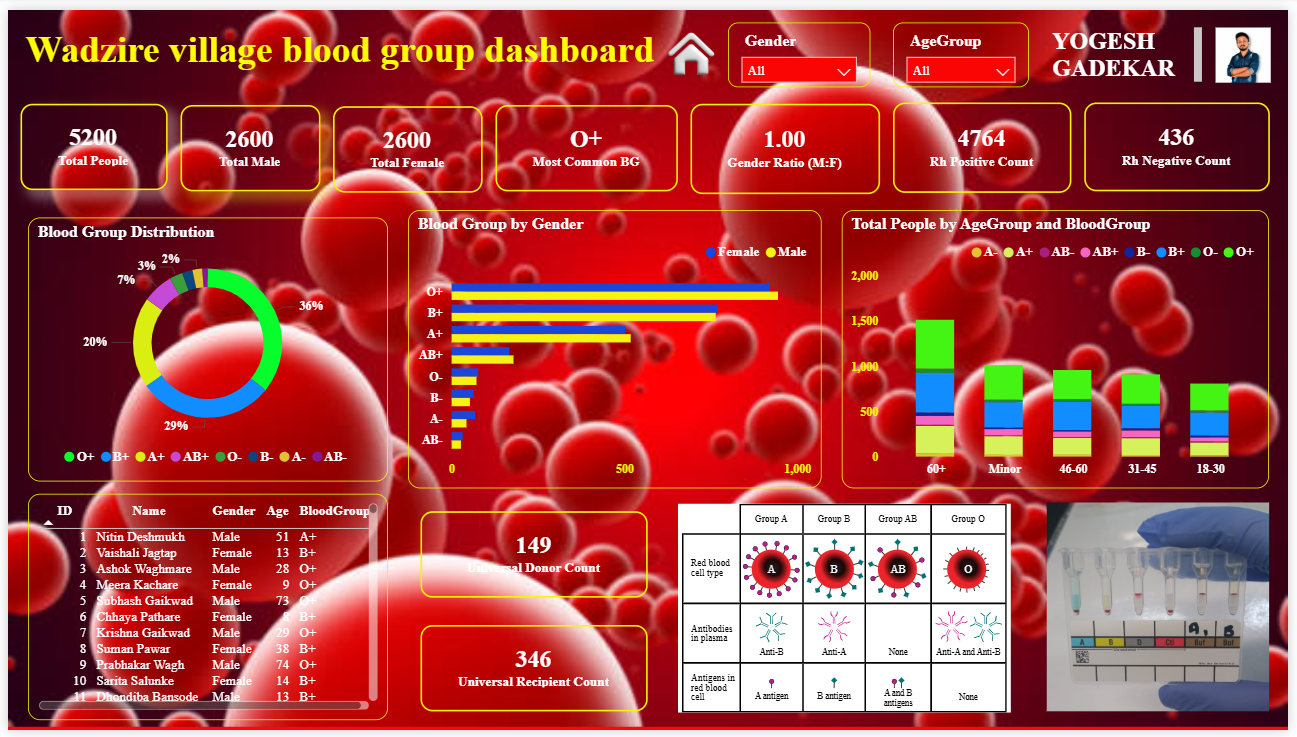

The dashboard page shown, as its layout file describes it:
{"tool":"powerbi","page":{"name":"Page 1","canvas":[1280,720],"ordinal":0},"visuals":[{"type":"textbox","box":[12.5,12.5,643.8,62.5],"z":0},{"type":"cardVisual","fields":{"Data":["BloodGroupData.Total People"]},"box":[12.3,93.3,146.8,86.4],"z":1000},{"type":"cardVisual","fields":{"Data":["BloodGroupData.Total Male"]},"box":[172.9,94.7,140,86.4],"z":2000},{"type":"cardVisual","fields":{"Data":["BloodGroupData.Total Female"]},"box":[325.2,96.1,149.6,86.4],"z":3000},{"type":"cardVisual","fields":{"Data":["BloodGroupData.Most Common BG"]},"box":[487.1,94.7,182.5,86.4],"z":4000},{"type":"cardVisual","fields":{"Data":["BloodGroupData.Rh Positive Count"]},"box":[885.1,91.9,178.4,90.6],"z":5000},{"type":"cardVisual","fields":{"Data":["BloodGroupData.Gender Ratio (M:F)"]},"box":[682,93.3,189.4,90.6],"z":6000},{"type":"cardVisual","fields":{"Data":["BloodGroupData.Rh Negative Count"]},"box":[1075.8,91.9,185.2,89.2],"z":7000},{"type":"donutChart","title":"Blood Group Distribution","fields":{"Category":["BloodGroupData.BloodGroup"],"Y":["BloodGroupData.Total People"]},"box":[20,207.5,360,263.8],"z":8000},{"type":"clusteredBarChart","title":"Blood Group by Gender","fields":{"Category":["BloodGroupData.BloodGroup"],"Series":["BloodGroupData.Gender"],"Y":["BloodGroupData.Total People"]},"box":[400,200,413.8,278.8],"z":9000},{"type":"columnChart","fields":{"Category":["BloodGroupData.AgeGroup"],"Series":["BloodGroupData.BloodGroup"],"Y":["BloodGroupData.Total People"]},"box":[833.8,200,427.5,278.8],"z":10000},{"type":"image","box":[1038.8,492.5,222.5,208.8],"z":11000},{"type":"tableEx","fields":{"Values":["BloodGroupData.PersonID","BloodGroupData.Name","BloodGroupData.Gender","BloodGroupData.Age","BloodGroupData.BloodGroup"]},"box":[20,483.8,360,226.2],"z":12000},{"type":"cardVisual","fields":{"Data":["BloodGroupData.Universal Donor Count"]},"box":[412.5,501.2,227.5,86.2],"z":13000},{"type":"cardVisual","fields":{"Data":["BloodGroupData.Universal Recipient Count"]},"box":[412.5,615,227.5,86.2],"z":14000},{"type":"image","box":[670,493.8,332.5,208.8],"z":15000},{"type":"image","box":[657.5,12.5,51.2,62.5],"z":16000},{"type":"slicer","fields":{"Values":["BloodGroupData.Gender"]},"box":[720,12.5,142.5,65],"z":17000},{"type":"slicer","fields":{"Values":["BloodGroupData.AgeGroup"]},"box":[885,12.5,136.2,65],"z":18000},{"type":"image","box":[1198.8,17.5,72.5,55],"z":19000},{"type":"textbox","box":[1038.8,12.5,160,72.5],"z":20000}]}

Visuals, with their boxes in screenshot pixels (x1, y1, x2, y2), scaled from the page's 1280x720 canvas onto the 1297x737 screenshot:
textbox: [13, 13, 665, 77]
cardVisual - BloodGroupData.Total People: [12, 96, 161, 184]
cardVisual - BloodGroupData.Total Male: [175, 97, 317, 185]
cardVisual - BloodGroupData.Total Female: [330, 98, 481, 187]
cardVisual - BloodGroupData.Most Common BG: [494, 97, 678, 185]
cardVisual - BloodGroupData.Rh Positive Count: [897, 94, 1078, 187]
cardVisual - BloodGroupData.Gender Ratio (M:F): [691, 96, 883, 188]
cardVisual - BloodGroupData.Rh Negative Count: [1090, 94, 1278, 185]
"Blood Group Distribution" donutChart: [20, 212, 385, 482]
"Blood Group by Gender" clusteredBarChart: [405, 205, 825, 490]
columnChart - BloodGroupData.AgeGroup x BloodGroupData.BloodGroup: [845, 205, 1278, 490]
image: [1053, 504, 1278, 718]
tableEx - BloodGroupData.PersonID x BloodGroupData.Name: [20, 495, 385, 727]
cardVisual - BloodGroupData.Universal Donor Count: [418, 513, 648, 601]
cardVisual - BloodGroupData.Universal Recipient Count: [418, 630, 648, 718]
image: [679, 505, 1016, 719]
image: [666, 13, 718, 77]
slicer - BloodGroupData.Gender: [730, 13, 874, 79]
slicer - BloodGroupData.AgeGroup: [897, 13, 1035, 79]
image: [1215, 18, 1288, 74]
textbox: [1053, 13, 1215, 87]
